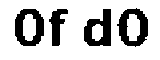0: (117, 6, 150, 50), (12, 6, 45, 46)
d: (79, 6, 113, 53)
f: (48, 6, 71, 49)
